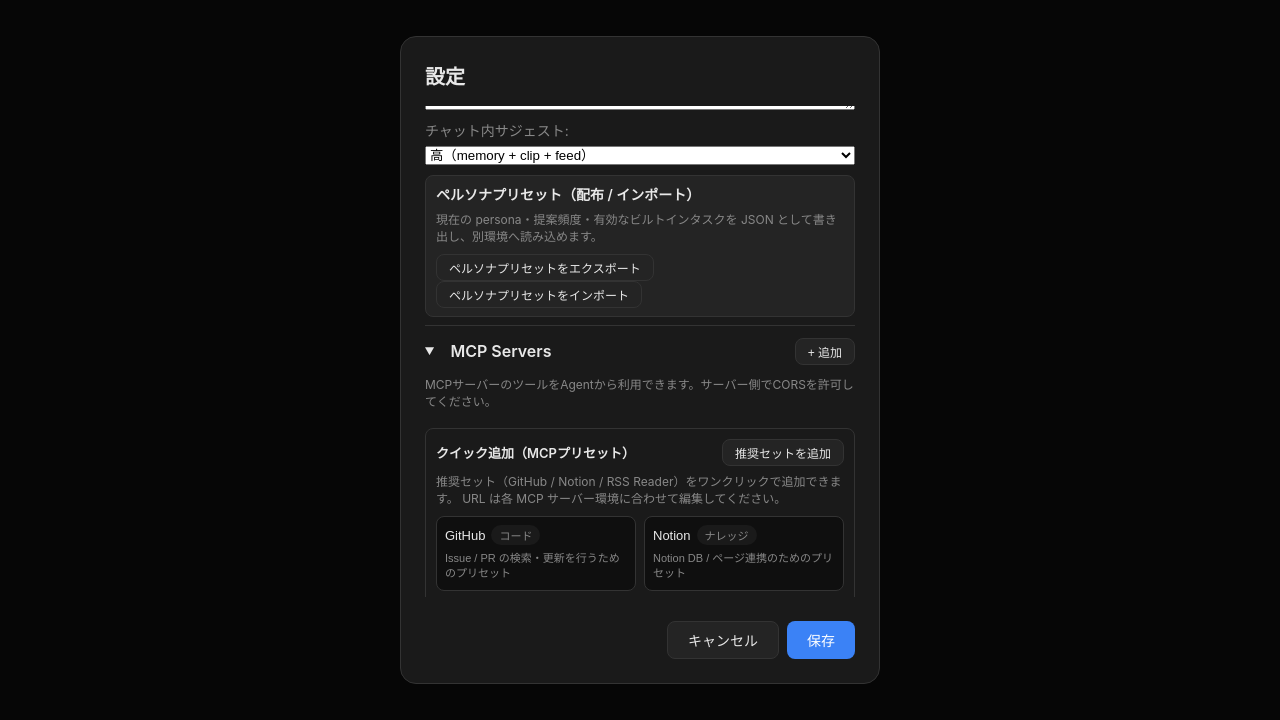
Test: SettingsModal › MCP サーバーを追加して削除できる
(page scrolled)
// MCP Servers セクション内の「+ 追加」ボタンをクリック
Step 1. Click the button "+ 追加" → (825, 351), box [795,338,855,365]
(page scrolled)
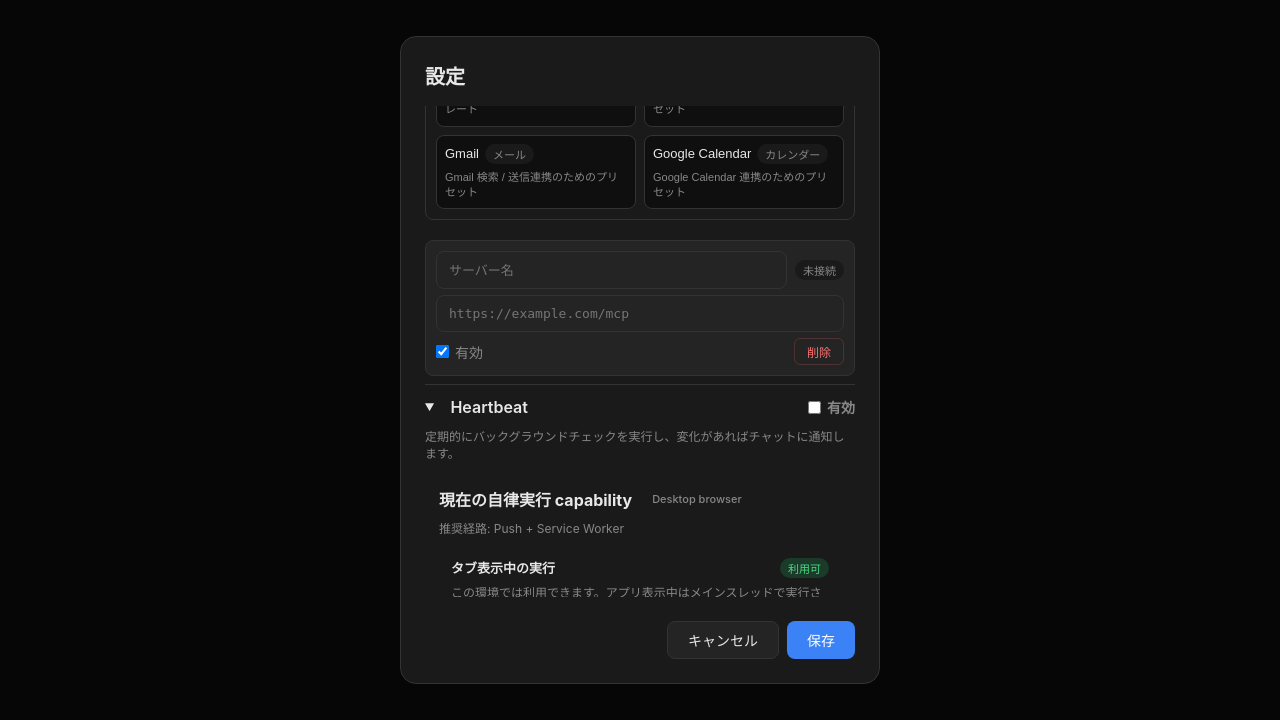
Result: the field with placeholder "サーバー名" is shown at [436,251,787,289]
Step 2. Click the button with class "btn-danger" → (819, 352), box [794,338,844,365]
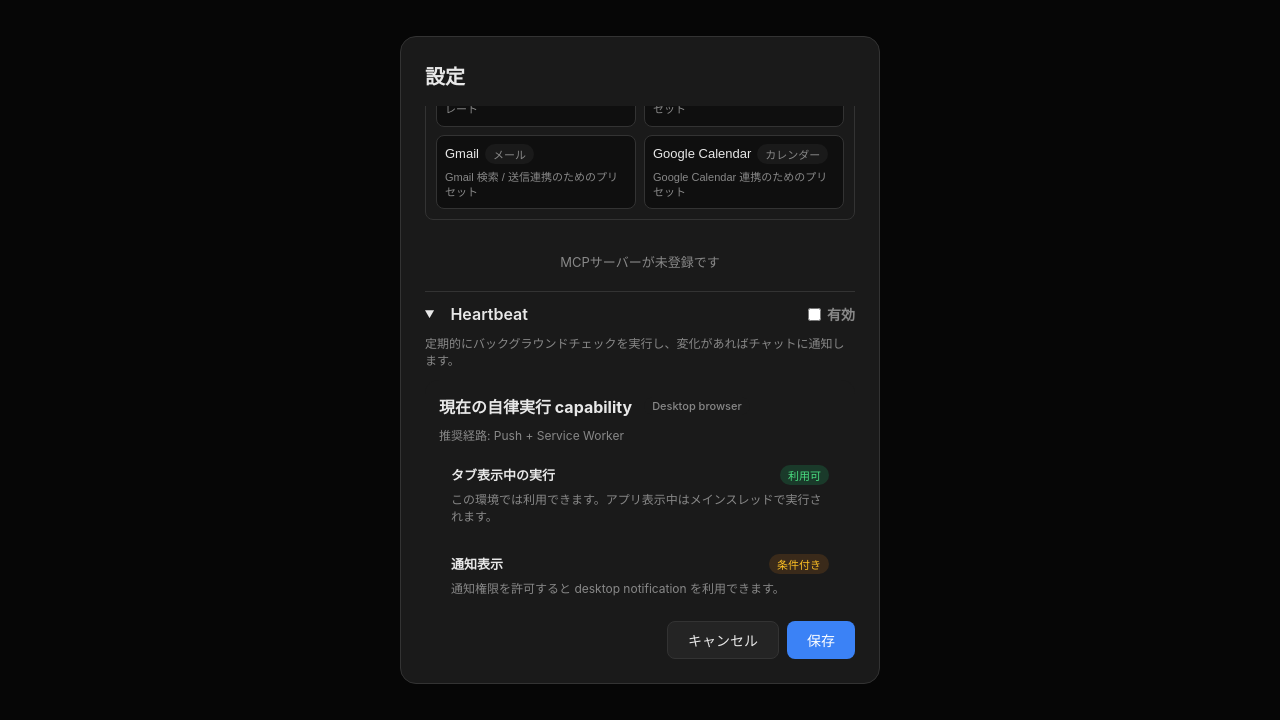
Result: the text "MCPサーバーが未登録です" is shown at [560,254,720,270]
